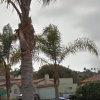Palm tree: (13, 13, 77, 90)
